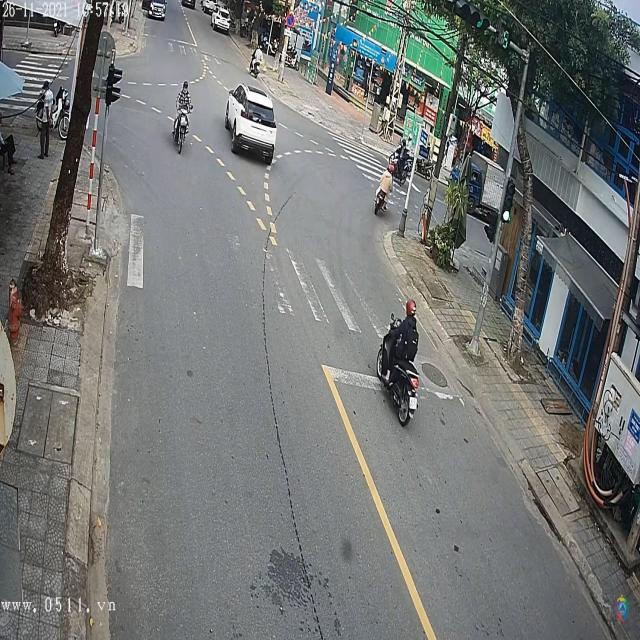car: (226, 82, 278, 166), (147, 2, 167, 20)
motorcycle: (379, 359, 419, 427), (172, 96, 192, 158), (373, 173, 393, 216)
